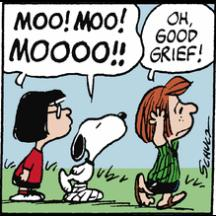snoopy: (57, 109, 129, 203)
